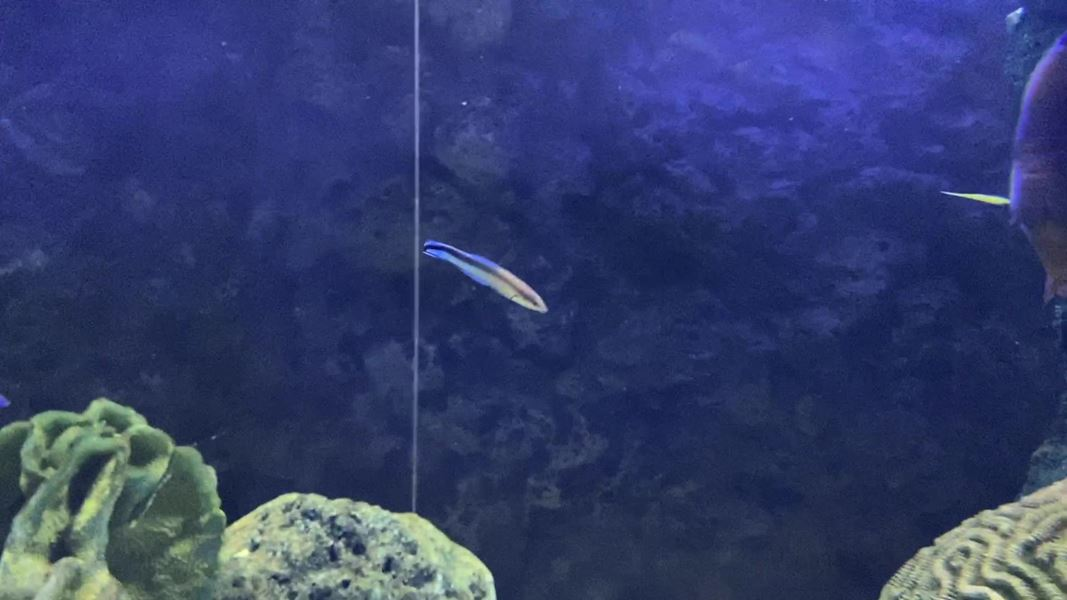Bluesteak cleaner wrasse: (407, 228, 553, 321)
